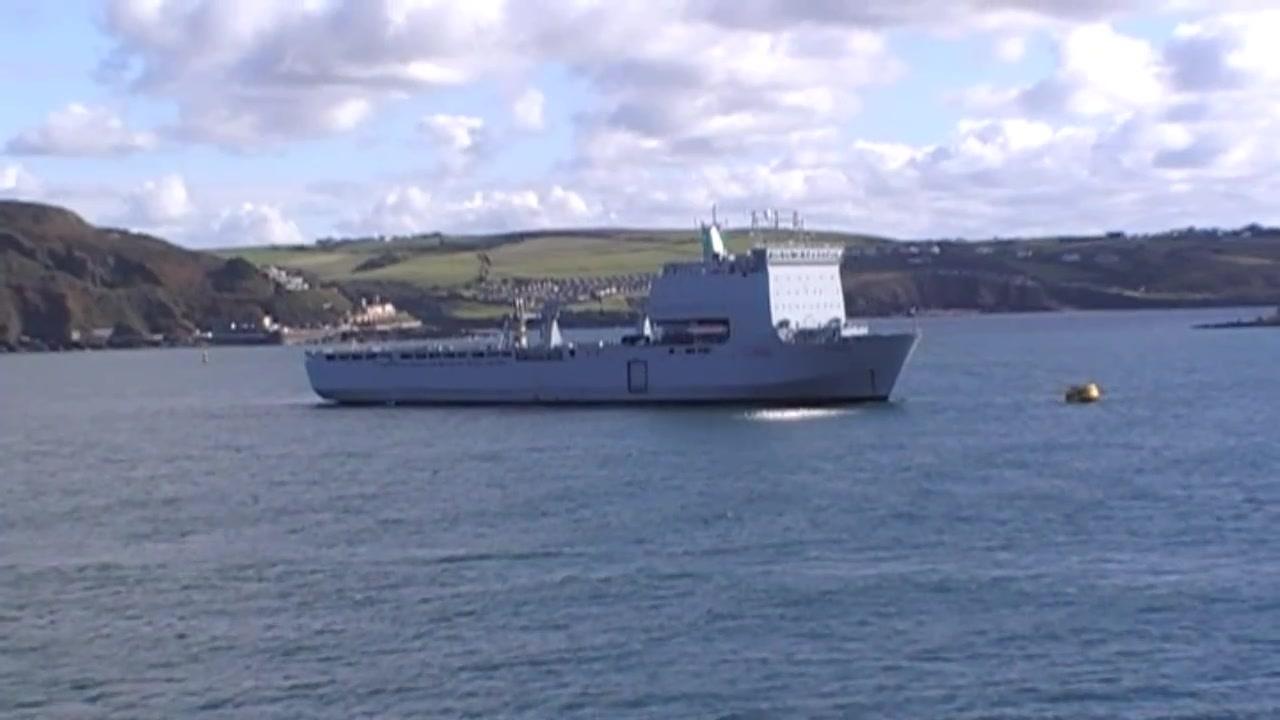boat: (295, 212, 926, 416)
